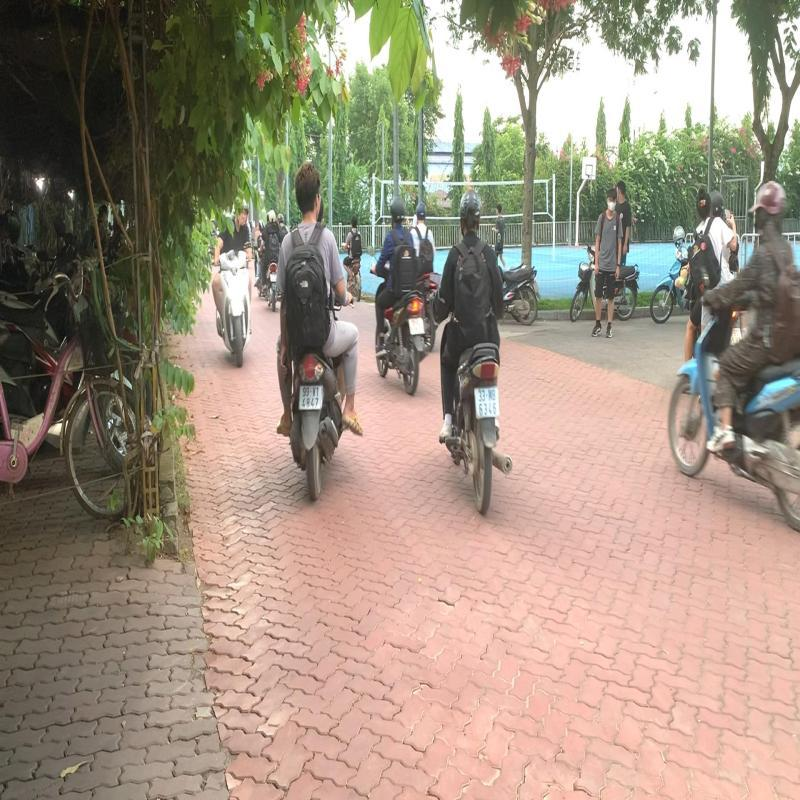licenseplate: (300, 386, 323, 411)
motorcyclist: (272, 158, 366, 506)
nohelmet: (296, 162, 320, 217)
